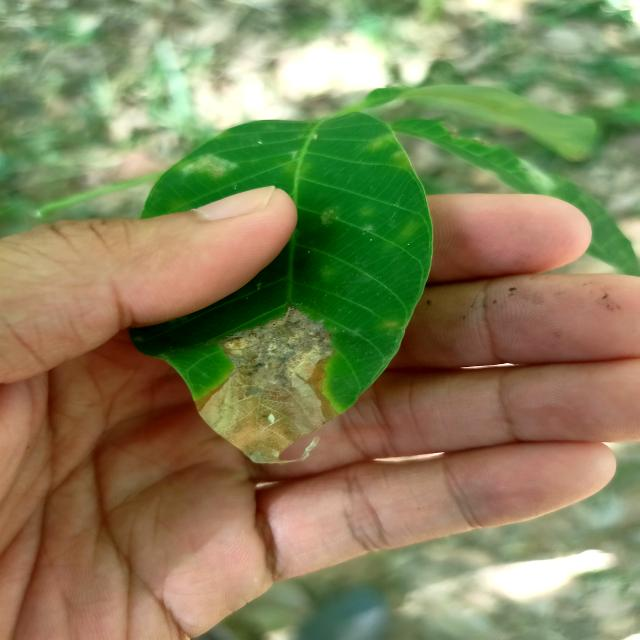Leaf-Blight: (195, 306, 339, 464)
